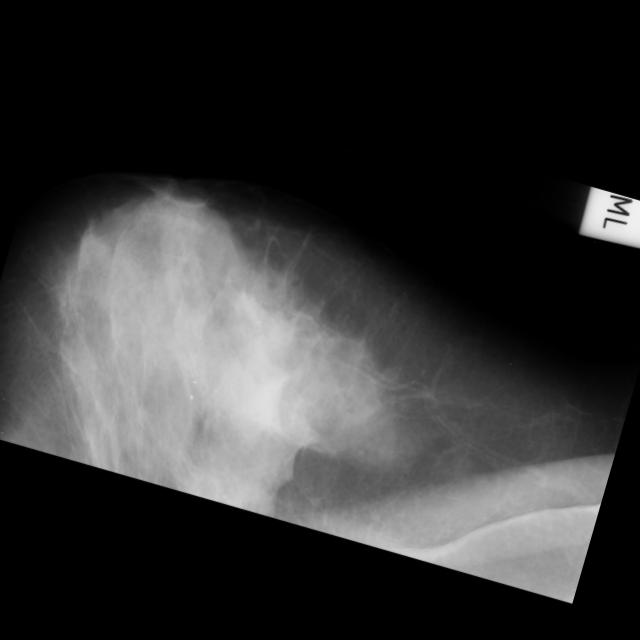ASYM: (168, 521, 563, 640)
